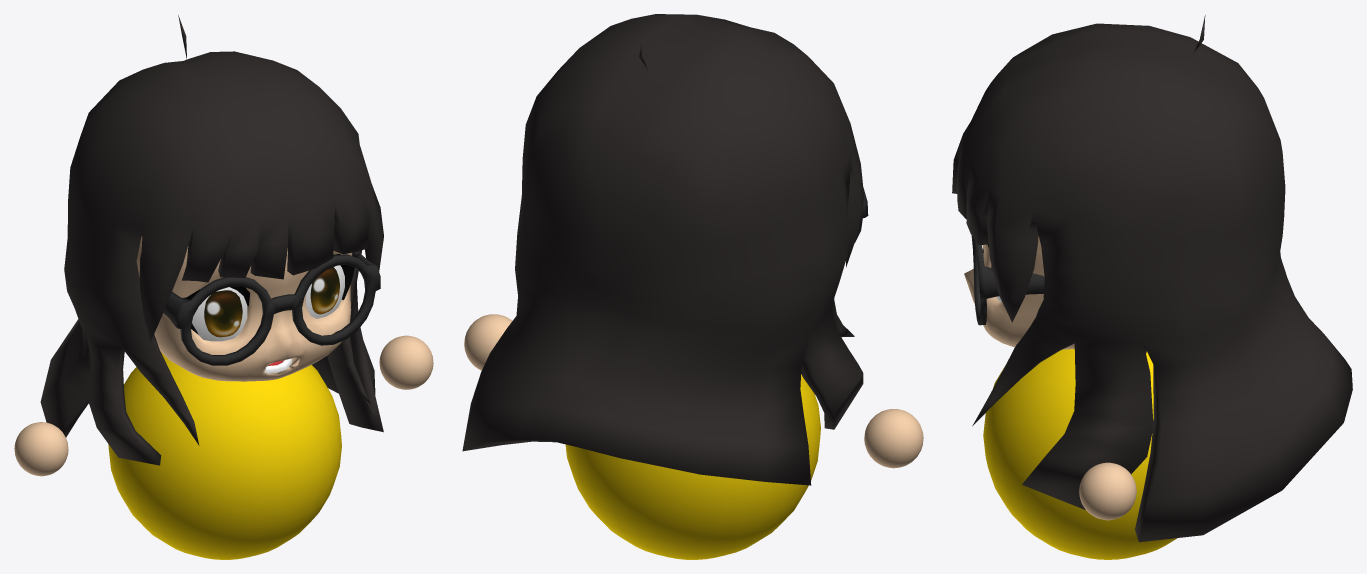
File: girl2.glb
3 renders of one model, left to right at view 1: azimuth 30°, elevation 25°; view 2: azimuth 150°, elevation 25°; view 3: azimuth 270°, elevation 25°, orthographic. The views are drawn at different scales.
Visible parts, largest first — view 1: Takoyaki_Girl2.hair, Takoyaki_Girl2.001, Takoyaki_Girl2.skin, Takoyaki_Girl2, right.skin.hand, left.skin.hand; view 2: Takoyaki_Girl2.hair, Takoyaki_Girl2.001, left.skin.hand, right.skin.hand; view 3: Takoyaki_Girl2.hair, Takoyaki_Girl2.001, right.skin.hand, Takoyaki_Girl2.skin.
Boxes of the visible parts, box(x1,y1,x2,y2) form: Takoyaki_Girl2.hair: box(40, 15, 383, 465); Takoyaki_Girl2.001: box(108, 251, 380, 559); Takoyaki_Girl2.skin: box(136, 236, 352, 381); Takoyaki_Girl2: box(204, 267, 339, 337); right.skin.hand: box(379, 335, 433, 389); left.skin.hand: box(14, 422, 68, 476); Takoyaki_Girl2.hair: box(462, 14, 864, 485); Takoyaki_Girl2.001: box(565, 188, 868, 559); left.skin.hand: box(864, 409, 923, 468); right.skin.hand: box(464, 314, 512, 370); Takoyaki_Girl2.hair: box(952, 15, 1352, 542); Takoyaki_Girl2.001: box(971, 235, 1177, 559); right.skin.hand: box(1079, 462, 1136, 520); Takoyaki_Girl2.skin: box(964, 236, 1074, 349).
Size of the model in its own units: 0.3396 by 0.3954 by 0.269.
Materials: 2 (2 with a texture image).
